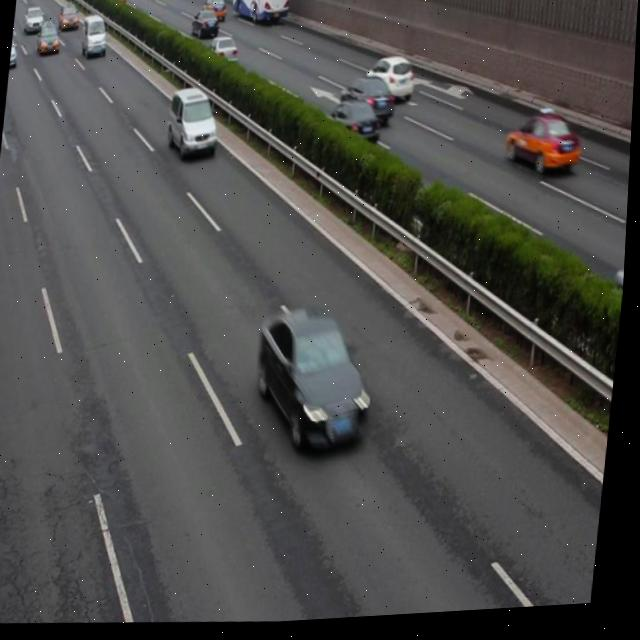car: (254, 305, 382, 463), (505, 110, 584, 183), (338, 78, 397, 129), (327, 102, 383, 152), (364, 57, 417, 107), (205, 36, 241, 69), (191, 9, 220, 42), (38, 21, 62, 57), (23, 3, 46, 34), (58, 2, 81, 31), (201, 0, 227, 24), (10, 34, 20, 69)
truck: (167, 89, 221, 160), (80, 16, 110, 58)
van: (226, 0, 291, 27)
